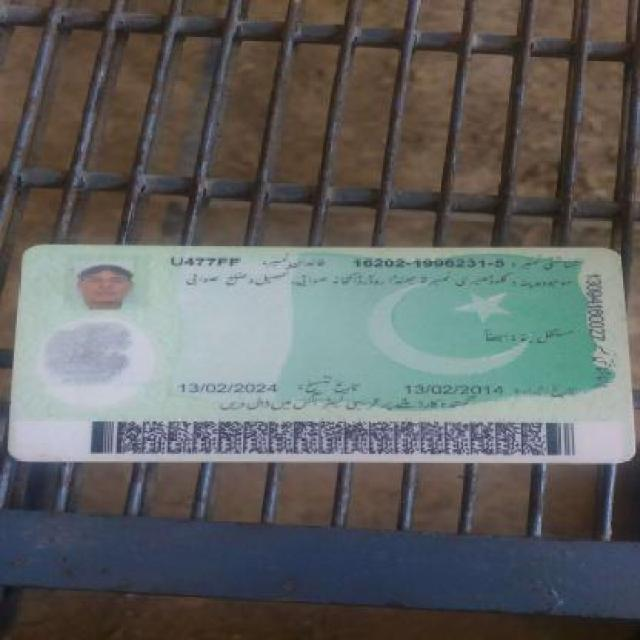Back: (5, 234, 632, 461)
